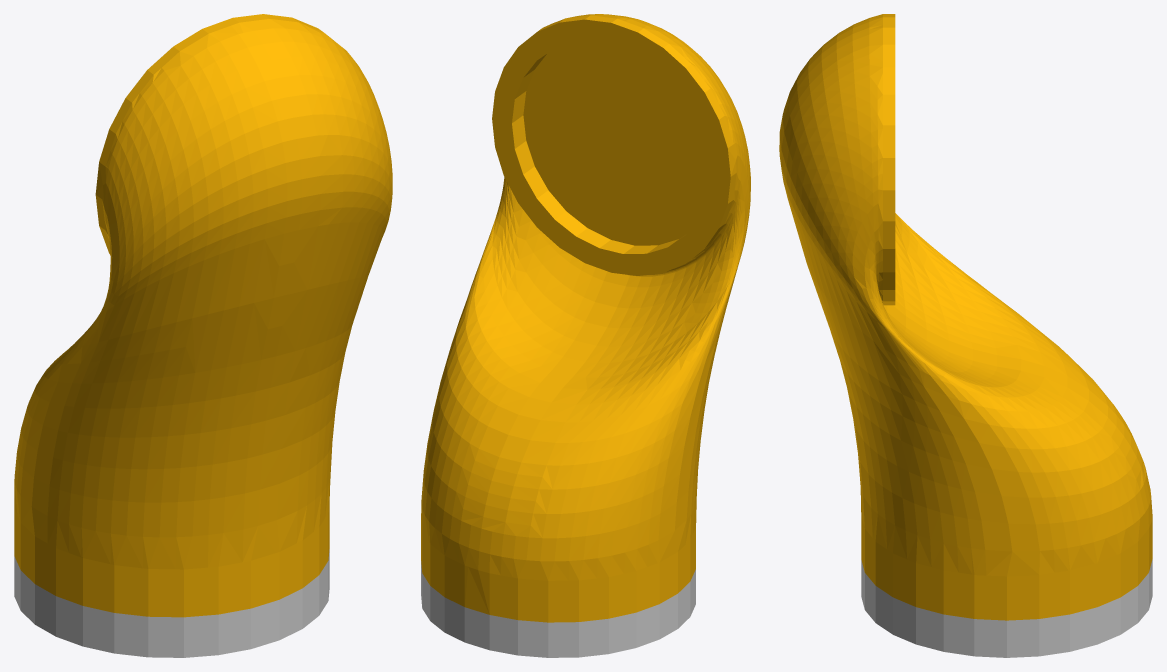
3 renders of one model, left to right at view 1: azimuth 30°, elevation 25°; view 2: azimuth 150°, elevation 25°; view 3: azimuth 270°, elevation 25°, orthographic. The views are drawn at different scales.
Parts seen in each view (by area): view 1: link_5; view 2: link_5; view 3: link_5.
Boxes of the visible parts, x1=… form: link_5: x1=14, y1=14, x2=392, y2=657; link_5: x1=421, y1=14, x2=750, y2=657; link_5: x1=779, y1=14, x2=1152, y2=657.
Bounding box in the file's own units: 0.12 × 0.1537 × 0.2585.
